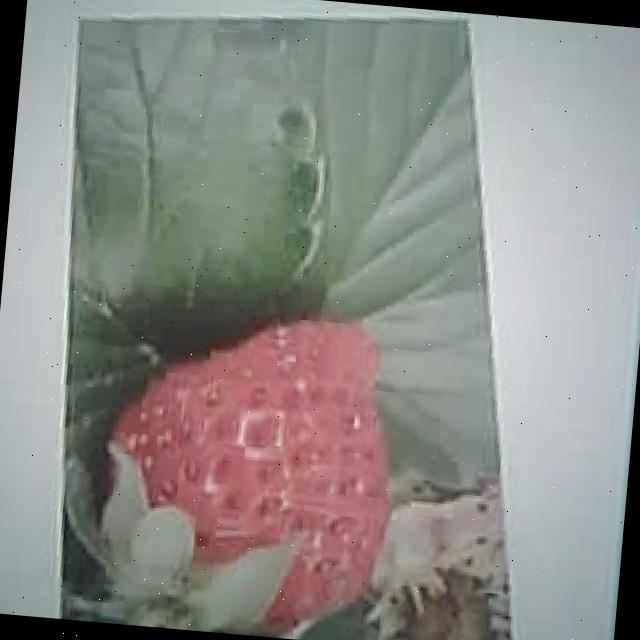strawberry: (92, 299, 402, 628)
